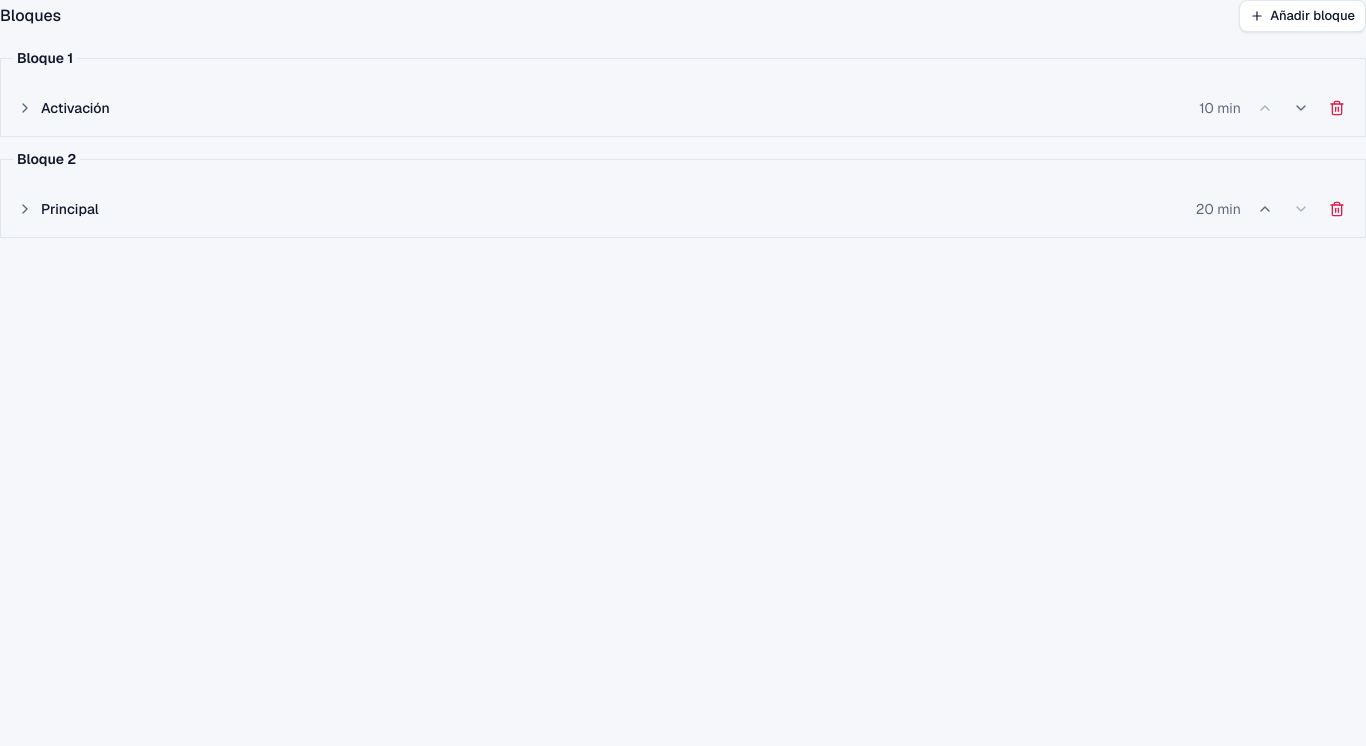
Test case: SesionBloquesEditor › permite tener varios bloques expandidos a la vez
This screenshot has width=1366, height=746.
Click the button with aria-label "expandir bloque 1" at (75, 108), box [13,94,1245,122]
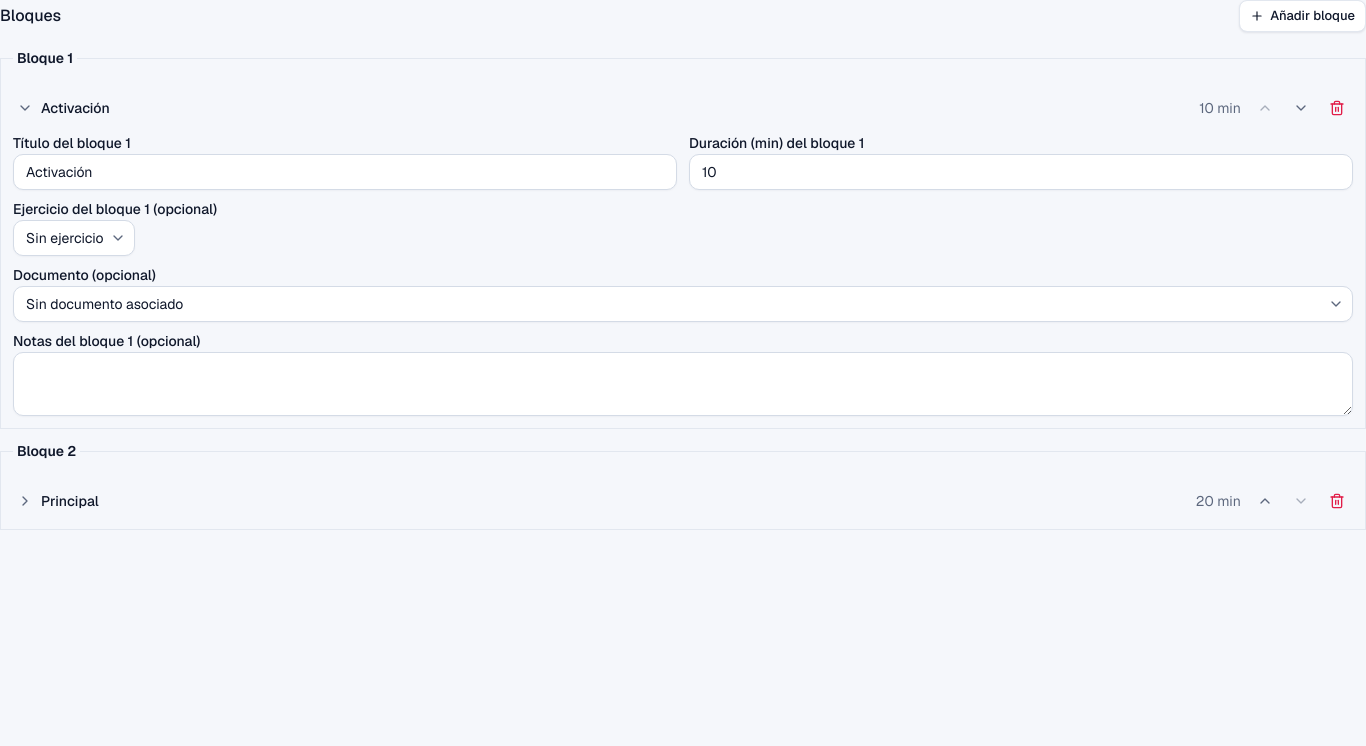
Click the button with aria-label "expandir bloque 2" at (70, 501), box [13,487,1245,515]
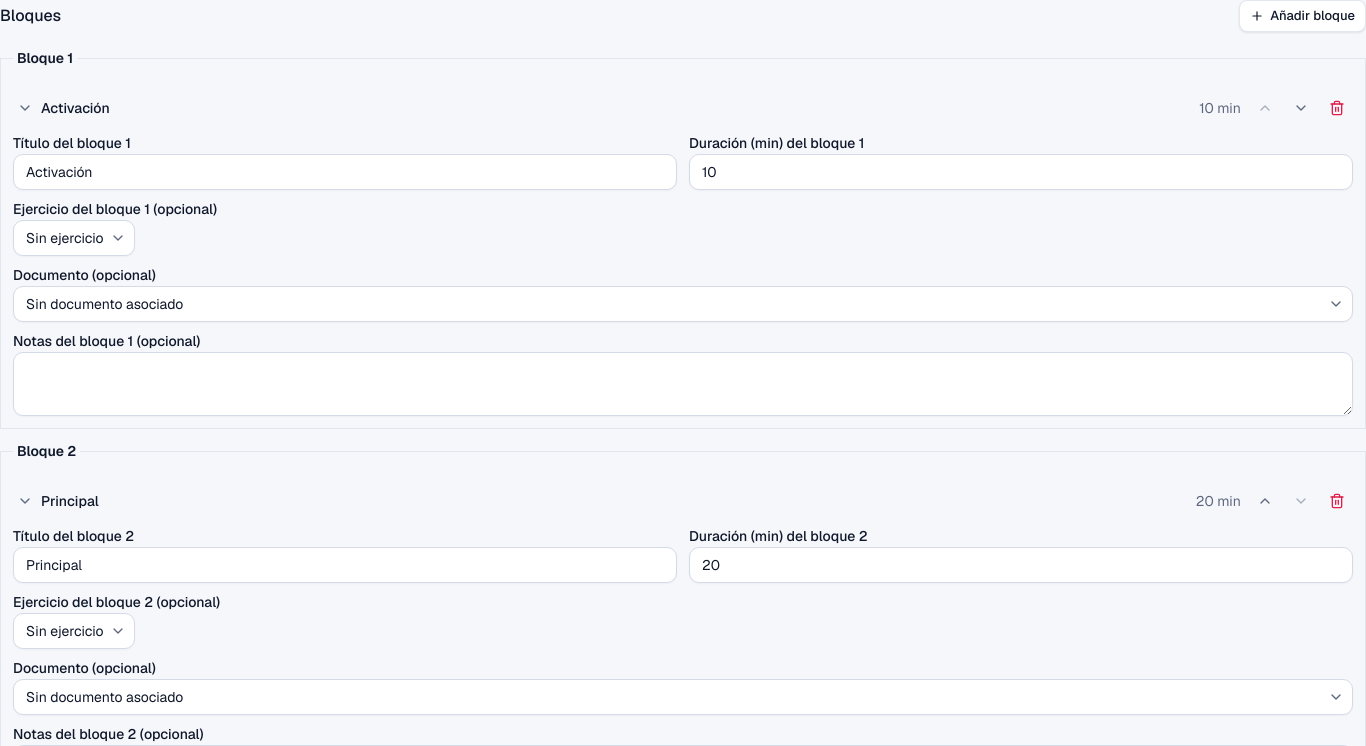
Now the field labelled "Título del bloque 1" is shown, box [13,154,677,190]
Now the field labelled "Título del bloque 2" is shown, box [13,547,677,583]
